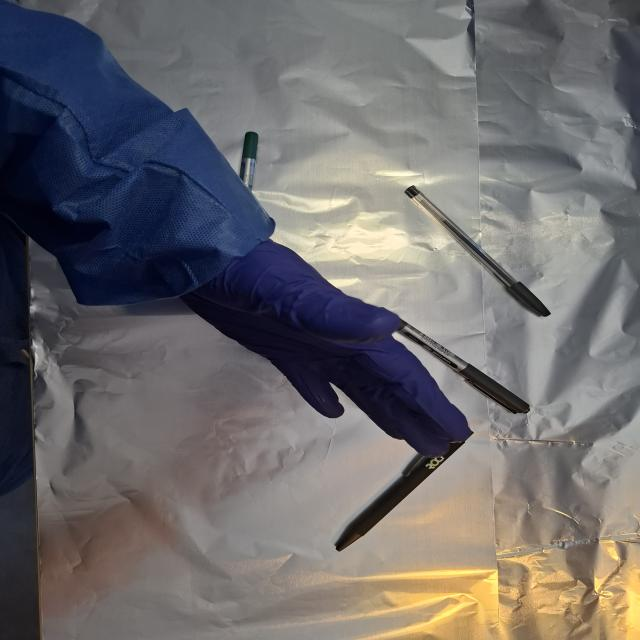glove_on: (178, 235, 473, 460)
